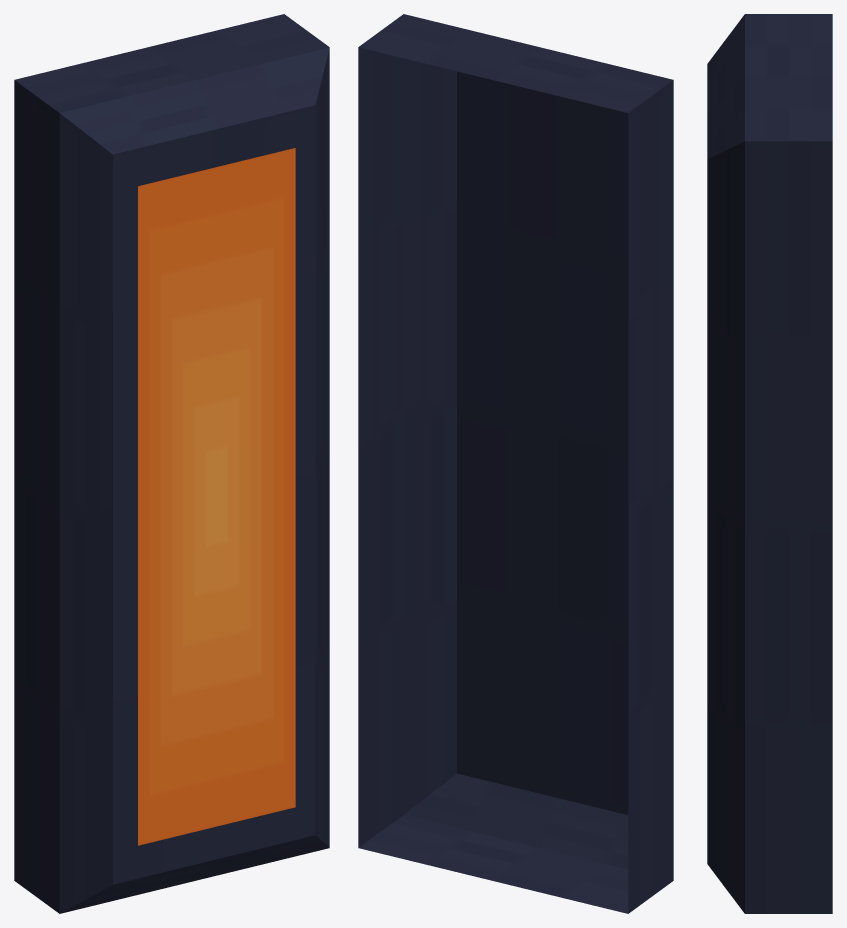
File: SM_Indicator.fbx
3 views of the same model, side by side, from view 1: azimuth 30°, elevation 25°; view 2: azimuth 150°, elevation 25°; view 3: azimuth 270°, elevation 25° (orthographic). The views are drawn at different scales.
Parts seen in each view (by area): view 1: SM_Indicator; view 2: SM_Indicator; view 3: SM_Indicator.
Part boxes in pixels (x1=…): SM_Indicator: x1=14, y1=14, x2=329, y2=913; SM_Indicator: x1=358, y1=14, x2=673, y2=913; SM_Indicator: x1=707, y1=14, x2=832, y2=913.
Bounding box in the file's own units: 0.12 × 0.34 × 0.052.
Materials: 2 (2 with a texture image).
